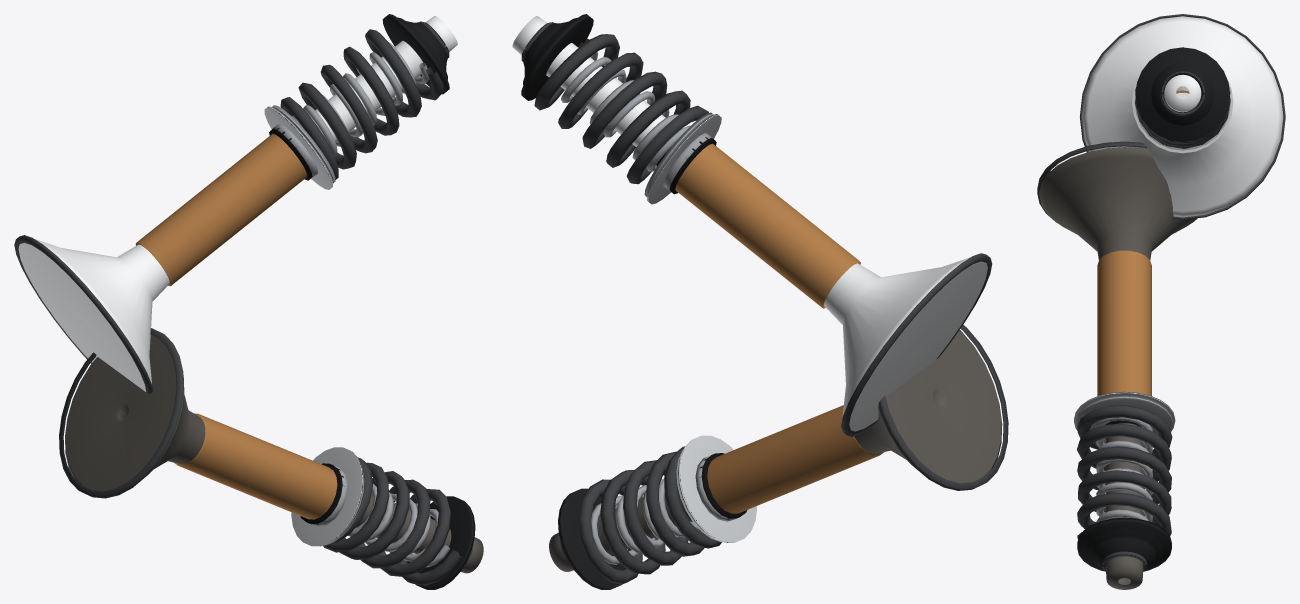
Rendered from valve-set-5.glb.
The picture shows the model from 3 angles, left to right: view 1: azimuth 30°, elevation 25°; view 2: azimuth 150°, elevation 25°; view 3: azimuth 270°, elevation 25°; orthographic projection. The views are drawn at different scales.
Visible parts, largest first — view 1: valve-set-5:darkSteel, valve-set-5:bronze, valve-set-5:chrome, valve-set-5:heatSteel, valve-set-5:steel, valve-set-5:satinBlack, valve-set-5:polishedSteel, valve-set-5:rubber; view 2: valve-set-5:darkSteel, valve-set-5:bronze, valve-set-5:chrome, valve-set-5:heatSteel, valve-set-5:steel, valve-set-5:satinBlack, valve-set-5:polishedSteel, valve-set-5:rubber; view 3: valve-set-5:chrome, valve-set-5:heatSteel, valve-set-5:darkSteel, valve-set-5:satinBlack, valve-set-5:bronze, valve-set-5:steel, valve-set-5:polishedSteel.
Part boxes in pixels (x1=…): valve-set-5:darkSteel: x1=14, y1=21, x2=473, y2=585; valve-set-5:bronze: x1=135, y1=133, x2=337, y2=519; valve-set-5:chrome: x1=18, y1=16, x2=457, y2=391; valve-set-5:heatSteel: x1=65, y1=335, x2=483, y2=573; valve-set-5:steel: x1=272, y1=42, x2=450, y2=567; valve-set-5:satinBlack: x1=382, y1=14, x2=475, y2=589; valve-set-5:polishedSteel: x1=264, y1=106, x2=363, y2=546; valve-set-5:rubber: x1=269, y1=128, x2=344, y2=524; valve-set-5:darkSteel: x1=521, y1=22, x2=1008, y2=584; valve-set-5:bronze: x1=675, y1=143, x2=884, y2=513; valve-set-5:chrome: x1=512, y1=16, x2=987, y2=431; valve-set-5:heatSteel: x1=549, y1=330, x2=1002, y2=571; valve-set-5:steel: x1=561, y1=47, x2=735, y2=564; valve-set-5:satinBlack: x1=521, y1=14, x2=629, y2=589; valve-set-5:polishedSteel: x1=647, y1=114, x2=756, y2=542; valve-set-5:rubber: x1=656, y1=137, x2=747, y2=519; valve-set-5:chrome: x1=1082, y1=16, x2=1283, y2=217; valve-set-5:heatSteel: x1=1039, y1=147, x2=1196, y2=589; valve-set-5:darkSteel: x1=1037, y1=14, x2=1285, y2=571; valve-set-5:satinBlack: x1=1077, y1=47, x2=1229, y2=571; valve-set-5:bronze: x1=1097, y1=90, x2=1189, y2=395; valve-set-5:steel: x1=1076, y1=96, x2=1230, y2=522; valve-set-5:polishedSteel: x1=1074, y1=77, x2=1233, y2=430.
Size of the model in its own units: 112 by 141 by 59.8.
